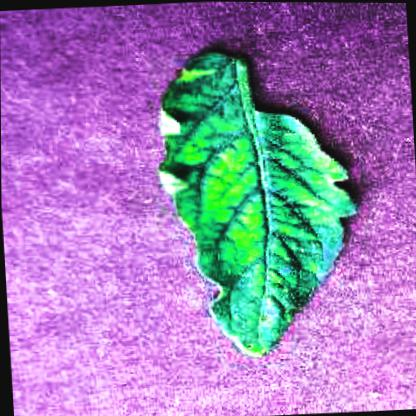Virus: (125, 32, 380, 370)
